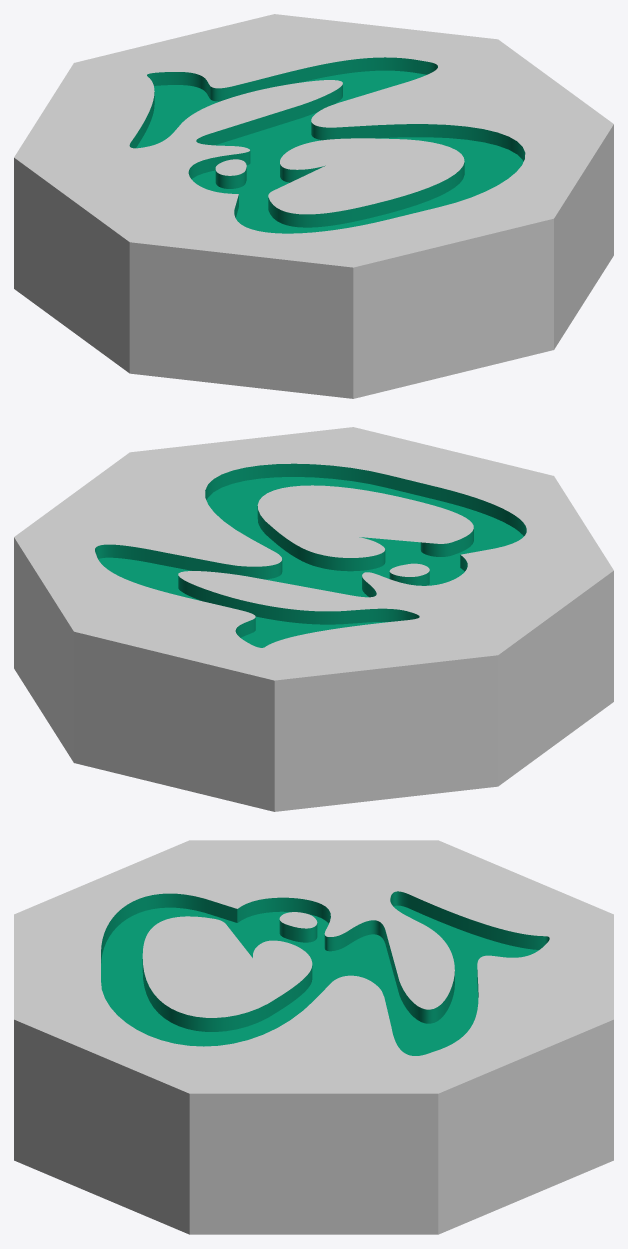
The picture shows the model from 3 angles, top to bottom: view 1: azimuth 30°, elevation 25°; view 2: azimuth 150°, elevation 25°; view 3: azimuth 270°, elevation 25°; orthographic projection. The views are drawn at different scales.
Visible parts, largest first — view 1: 초_포; view 2: 초_포; view 3: 초_포.
Boxes of the visible parts, x1,y1,x2,y2 form: 초_포: (14, 14, 613, 398); 초_포: (14, 427, 613, 811); 초_포: (14, 840, 613, 1234).
Size of the model in its own units: 2700 by 700 by 2700.
